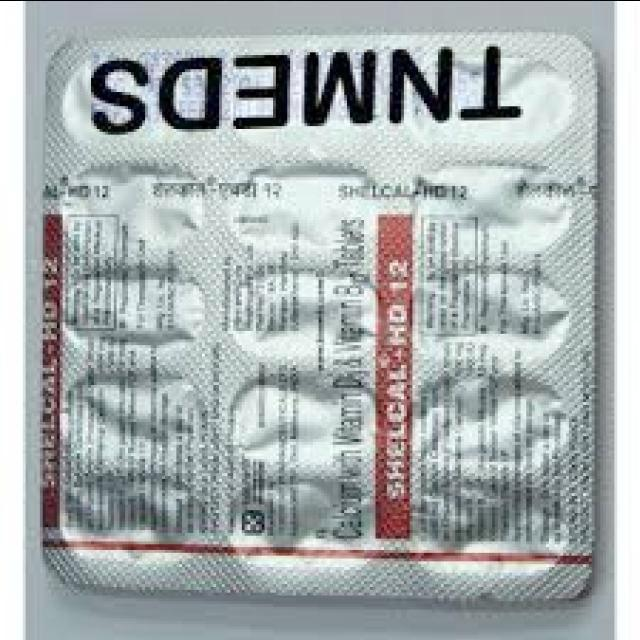authentic: (9, 0, 617, 640)
